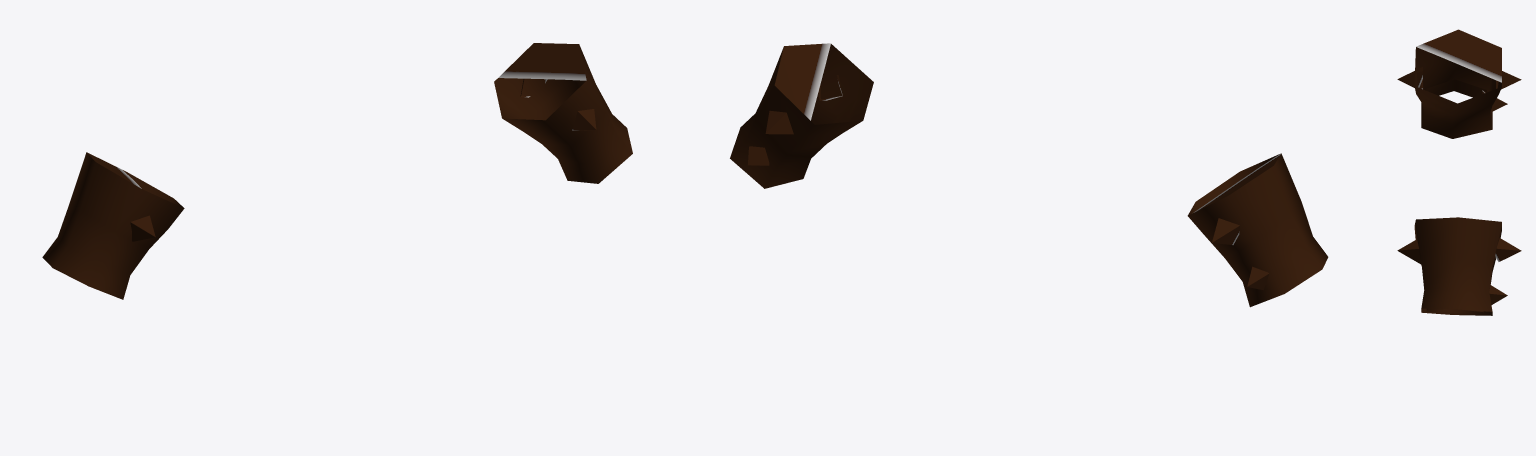
File: hum_berserker_01_d1202e96.glb
3 renders of one model, left to right at view 1: azimuth 30°, elevation 25°; view 2: azimuth 150°, elevation 25°; view 3: azimuth 270°, elevation 25°, orthographic. The views are drawn at different scales.
Size of the model in its own units: 1.7 by 0.725 by 0.3684.
Materials: 1 (1 with a texture image).
